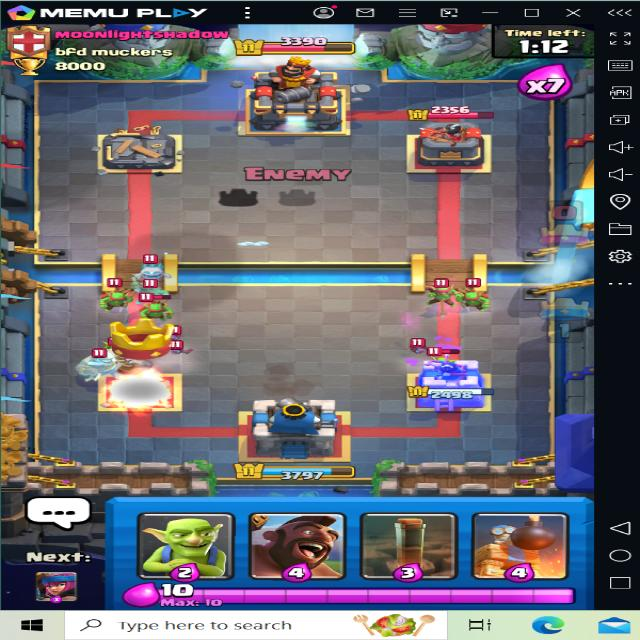bats: (397, 338, 440, 359), (160, 337, 197, 358)
ice-spirit: (130, 256, 172, 285)
monk: (98, 344, 163, 381)
spear-goblin: (94, 284, 143, 312), (130, 290, 172, 321), (428, 277, 464, 311), (458, 286, 493, 318)
